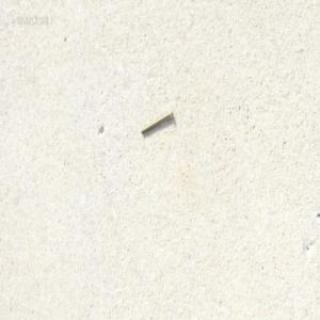Bolttrack_idkeyframe: (139, 108, 172, 135)
